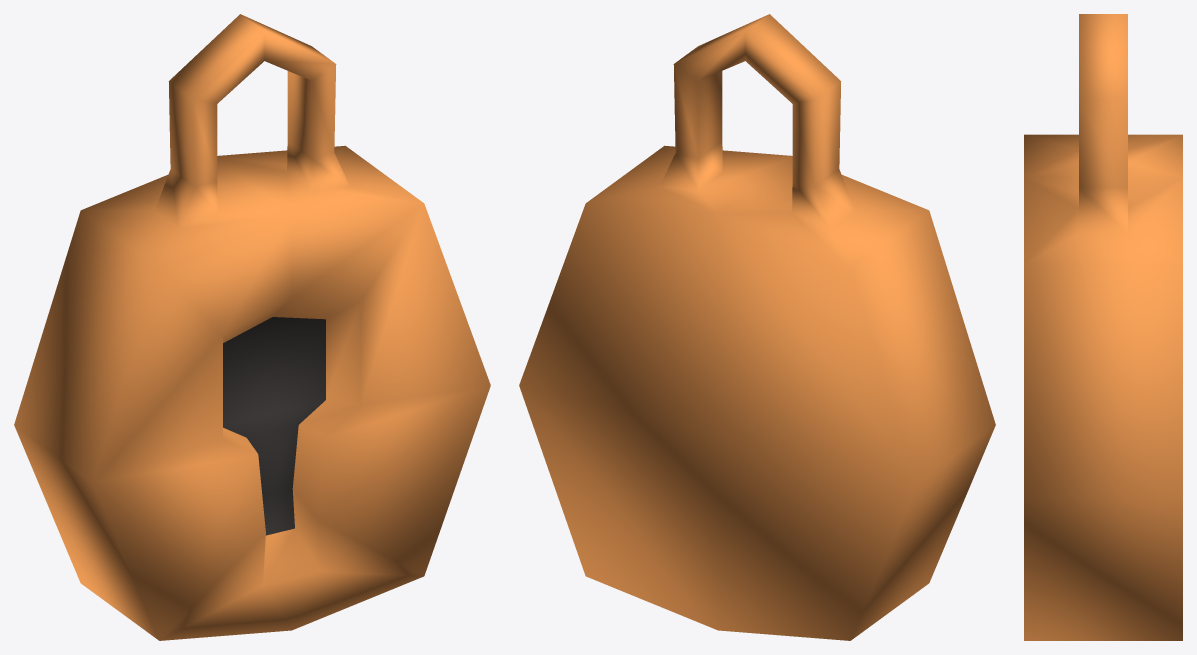
The model's file is lock_gold.fbx.
The picture shows the model from 3 angles, left to right: view 1: azimuth 30°, elevation 25°; view 2: azimuth 150°, elevation 25°; view 3: azimuth 270°, elevation 25°; orthographic projection.
Visible parts, largest first — view 1: lock_gold; view 2: lock_gold; view 3: lock_gold.
Boxes of the visible parts, x1,y1,x2,y2 form: lock_gold: [14, 14, 490, 640]; lock_gold: [519, 14, 995, 640]; lock_gold: [1024, 14, 1182, 640].
Size of the model in its own units: 0.4114 by 0.5716 by 0.141.
